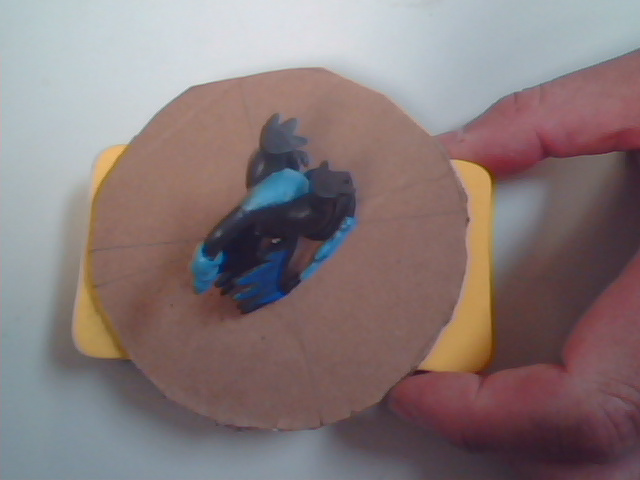charizard: (150, 113, 388, 341)
